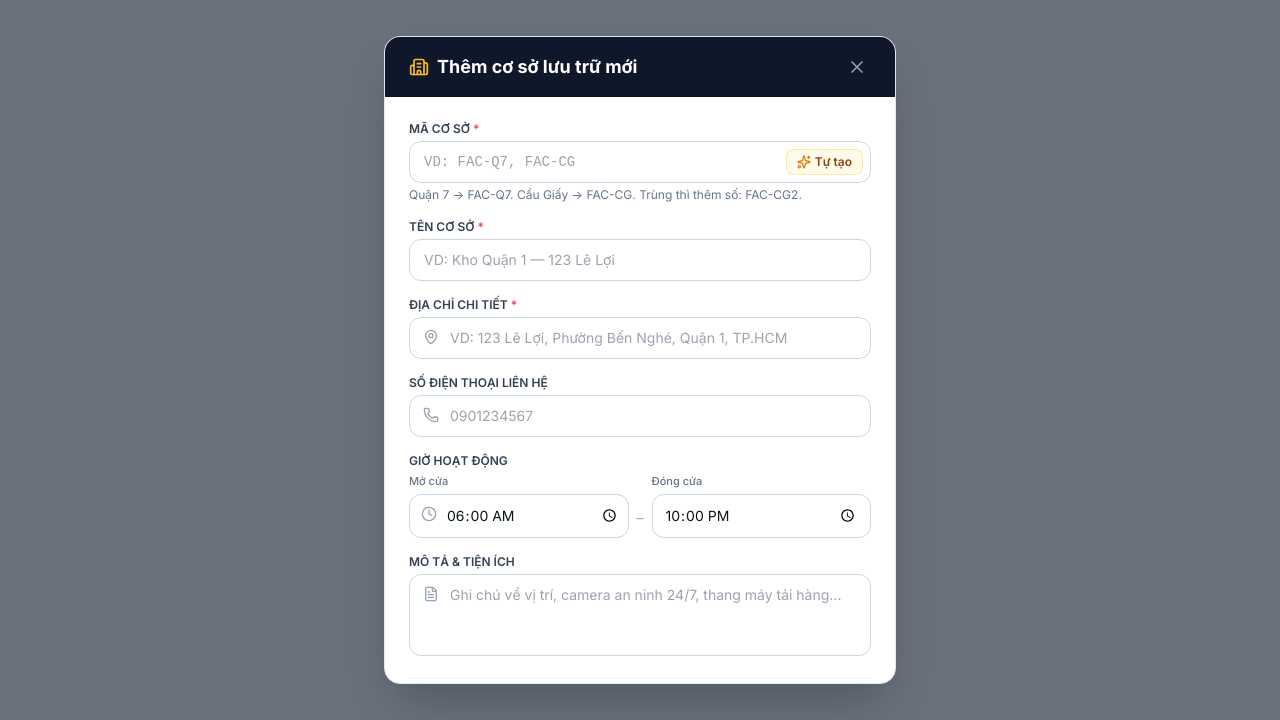
Test: FacilityModal: Auto-generate Facility Code › tự động sinh mã FAC-CG2 khi mã FAC-CG đã có trong existingCodes
Type "Cơ sở Cầu Giấy Mới" into the field with placeholder "VD: Kho Quận 1 — 123 Lê Lợi".
click(640, 260); type("Cơ sở Cầu Giấy Mới")  # box [409,239,871,281]
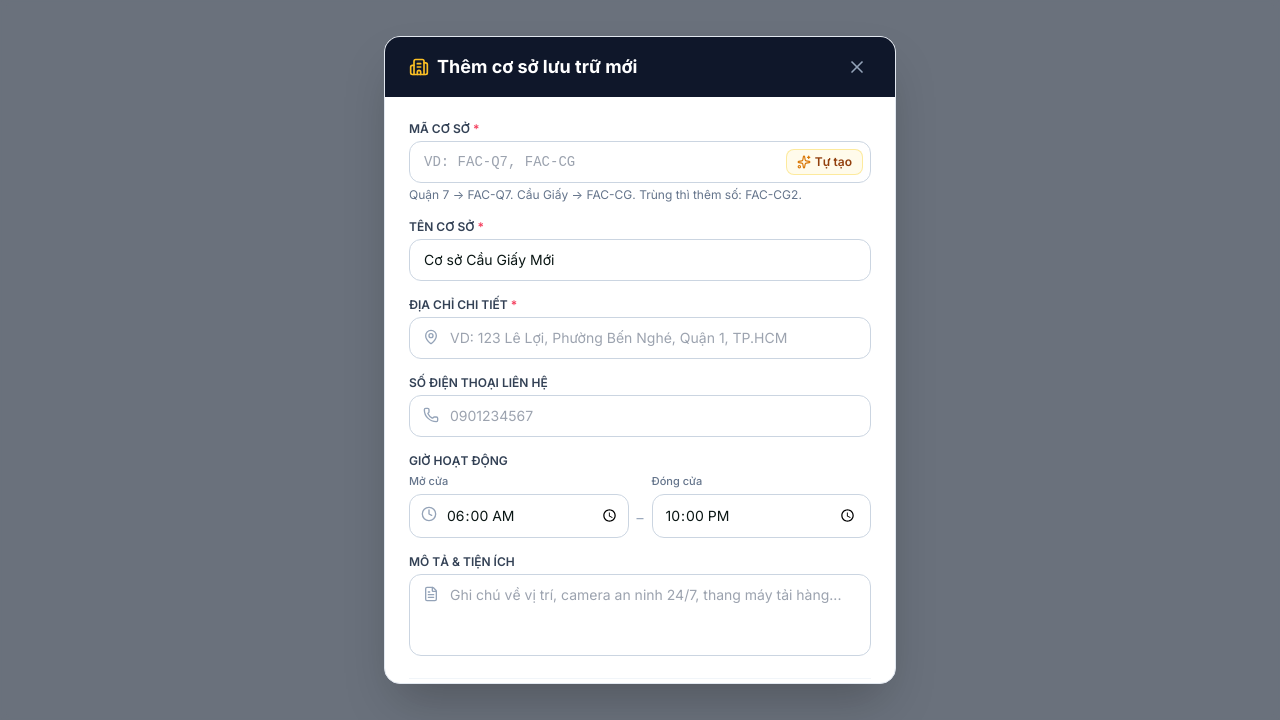
Type "19 Duy Tân, Cầu Giấy, Hà Nội" into the field with placeholder "VD: 123 Lê Lợi, Phường Bến Nghé, Quận 1, TP.HCM".
click(640, 338); type("19 Duy Tân, Cầu Giấy, Hà Nội")  # box [409,317,871,359]
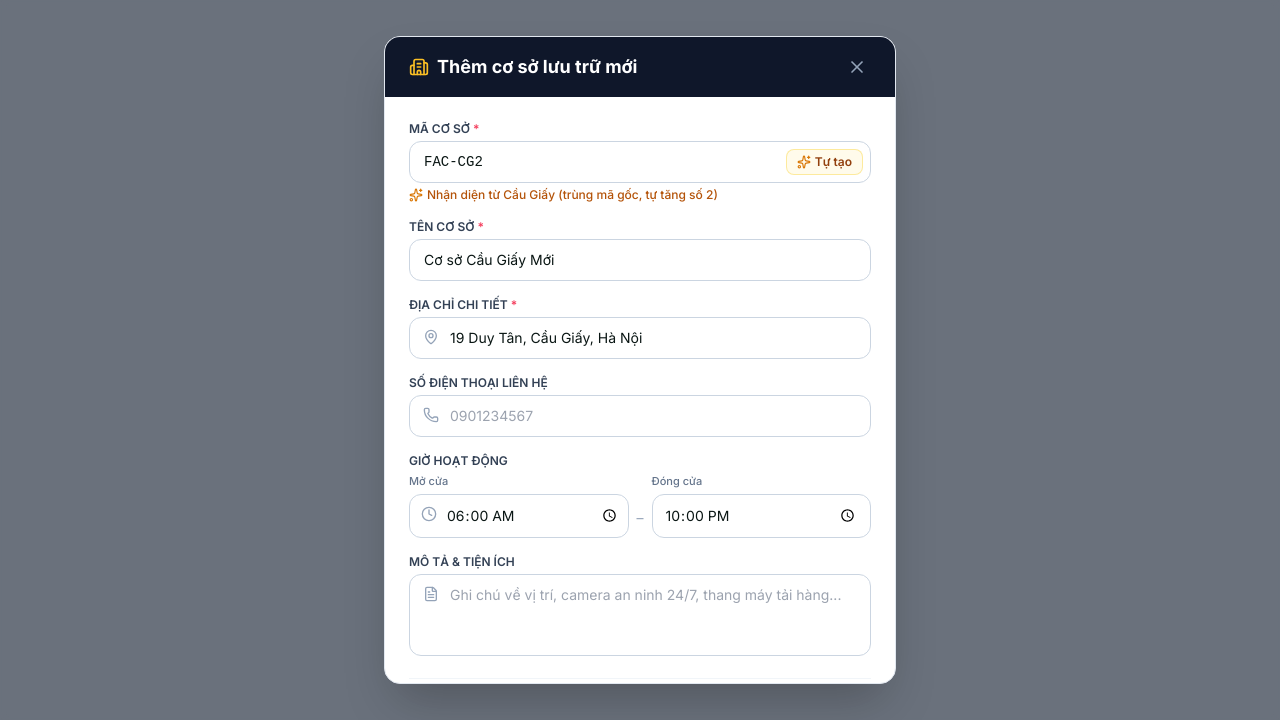
Check: the field with placeholder "VD: FAC-Q7, FAC-CG" below "Mã cơ sở" holds "FAC-CG2", box [409,141,871,183]
Check: the text "Nhận diện từ Cầu Giấy (trùng mã gốc, tự tăng số 2)" is shown, box [427,187,718,203]
